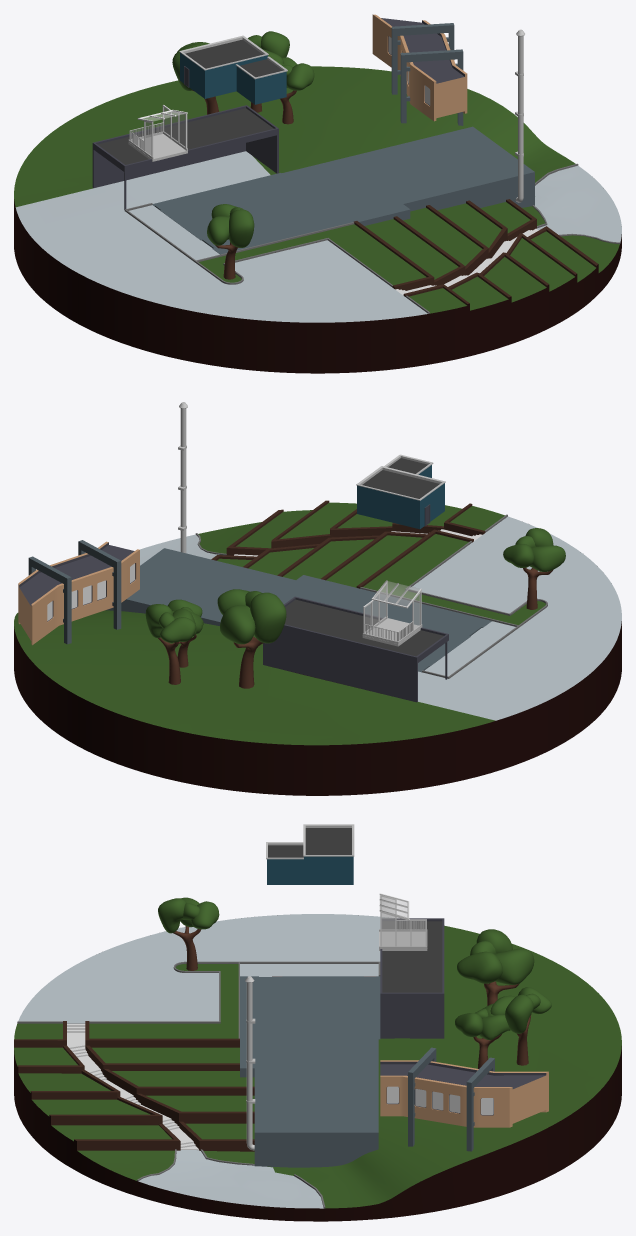
File: Building_01_exterior.glb
3 views of the same model, one above another, from view 1: azimuth 30°, elevation 25°; view 2: azimuth 150°, elevation 25°; view 3: azimuth 270°, elevation 25° (orthographic).
Visible parts, largest first — view 1: Boden, Fundament, Dachausgang, Durchgang, Tree.003, Balkon Dach, Durchgang Stangen, Durchgang Stangen.001, Tree.002, Schornstein, Balkon Boden, Tree.001 (+2 smaller); view 2: Boden, Fundament, Durchgang, Dachausgang, Tree, Tree.003, Tree.001, Balkon Dach, Schornstein, Durchgang Stangen, Durchgang Stangen.001, Balkon Boden (+1 smaller); view 3: Boden, Fundament, Durchgang, Dachausgang, Tree, Tree.003, Tree.001, Balkon Dach, Treppe, Tree.002, Schornstein, Balkon Boden (+2 smaller).
Part boxes in pixels (x1,y1,x2,y2): Boden: [14, 66, 621, 373]; Fundament: [152, 126, 534, 254]; Dachausgang: [179, 35, 287, 104]; Durchgang: [372, 14, 467, 121]; Tree.003: [207, 204, 254, 279]; Balkon Dach: [137, 105, 187, 156]; Durchgang Stangen: [400, 49, 463, 125]; Durchgang Stangen.001: [391, 23, 454, 94]; Tree.002: [275, 57, 314, 124]; Schornstein: [515, 29, 524, 202]; Balkon Boden: [128, 131, 187, 161]; Tree.001: [248, 31, 289, 112]; Boden: [14, 500, 621, 795]; Fundament: [106, 548, 491, 672]; Durchgang: [18, 541, 139, 645]; Dachausgang: [356, 454, 445, 529]; Tree: [217, 589, 286, 688]; Tree.003: [503, 528, 565, 609]; Tree.001: [145, 604, 196, 684]; Balkon Dach: [363, 580, 421, 633]; Schornstein: [178, 402, 187, 553]; Durchgang Stangen: [78, 540, 121, 629]; Durchgang Stangen.001: [28, 556, 71, 644]; Balkon Boden: [362, 616, 422, 646]; Boden: [14, 914, 621, 1221]; Fundament: [240, 976, 380, 1167]; Durchgang: [380, 1060, 548, 1127]; Dachausgang: [266, 824, 354, 884]; Tree: [457, 929, 534, 1005]; Tree.003: [158, 897, 219, 970]; Tree.001: [490, 987, 551, 1065]; Balkon Dach: [379, 893, 426, 946]; Treppe: [67, 1023, 198, 1150]; Tree.002: [455, 1003, 510, 1068]; Schornstein: [245, 976, 255, 1150]; Balkon Boden: [379, 929, 427, 950].
Size of the model in its own units: 60.35 by 23 by 60.37.
